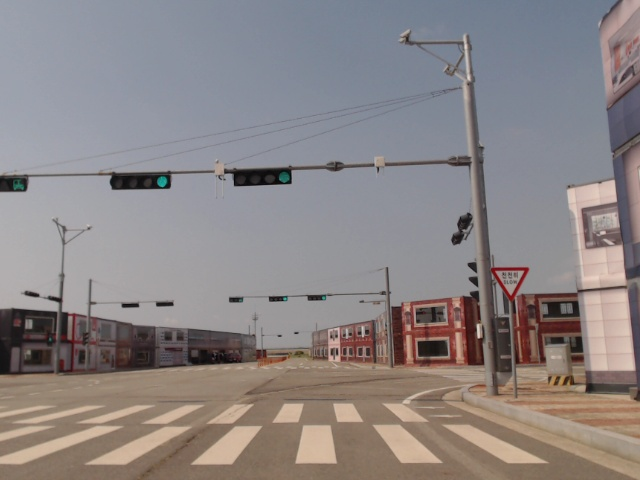straight_green_4: (235, 166, 291, 186), (109, 172, 171, 190), (307, 295, 327, 300), (271, 297, 286, 302)
